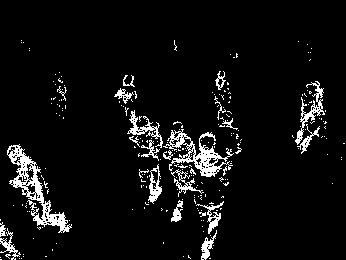person: (6, 144, 72, 233), (191, 129, 231, 260), (163, 120, 195, 223), (128, 114, 163, 205), (213, 69, 235, 130)
